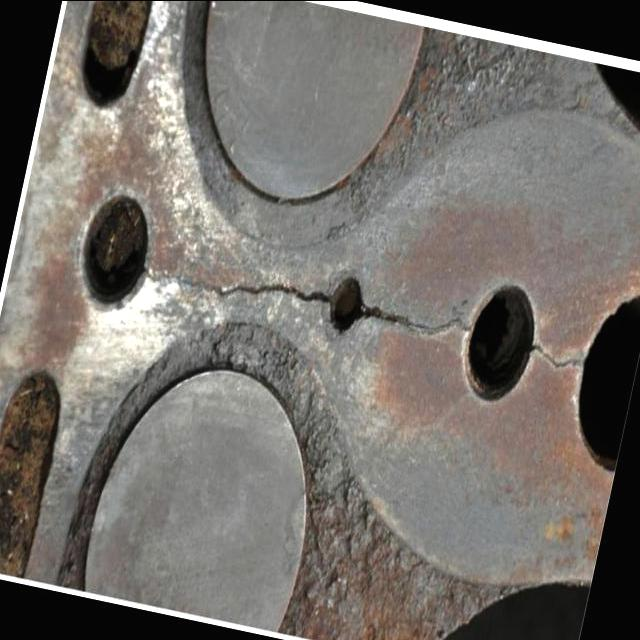defect: (139, 256, 333, 307), (351, 294, 474, 341), (522, 342, 587, 372)
